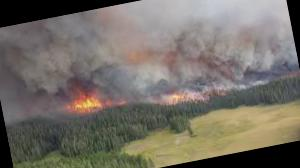fire: (62, 80, 128, 120)
smoke: (0, 0, 300, 140)
